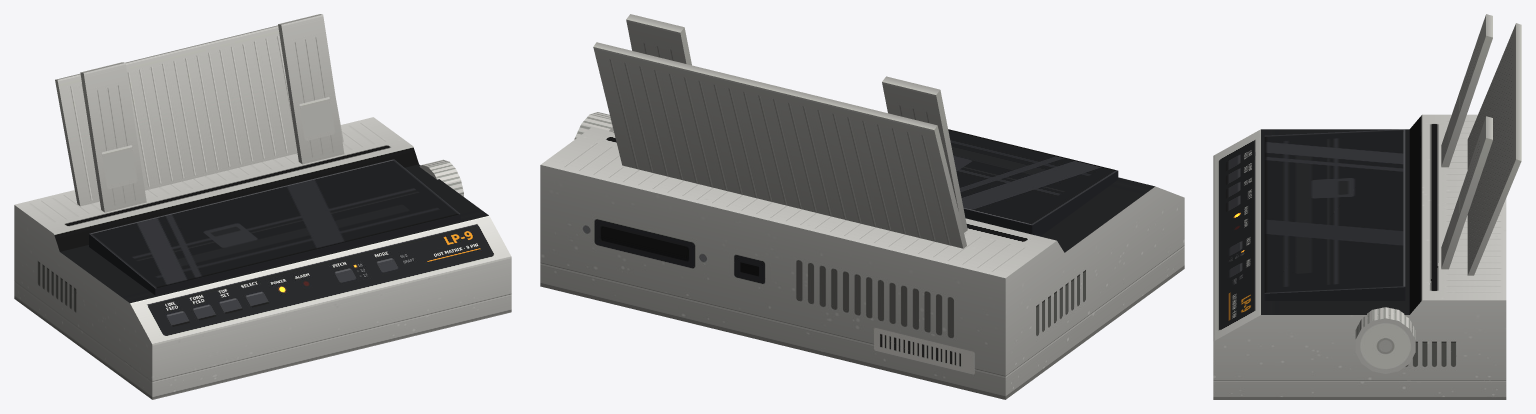
File: dot-matrix-printer.glb
3 renders of one model, left to right at view 1: azimuth 30°, elevation 25°; view 2: azimuth 150°, elevation 25°; view 3: azimuth 270°, elevation 25°, orthographic. The views are drawn at different scales.
Parts seen in each view (by area): view 1: DotMatrixPrinter, PlatenKnob; view 2: DotMatrixPrinter; view 3: DotMatrixPrinter, PlatenKnob.
Part boxes in pixels (box(x1,y1,x2,y2)): DotMatrixPrinter: box(14, 14, 511, 399); PlatenKnob: box(419, 159, 463, 196); DotMatrixPrinter: box(540, 14, 1184, 399); DotMatrixPrinter: box(1213, 14, 1521, 399); PlatenKnob: box(1355, 307, 1415, 373).
Size of the model in its own units: 0.632 by 0.3481 by 0.4207.
Materials: 2 (2 with a texture image).
